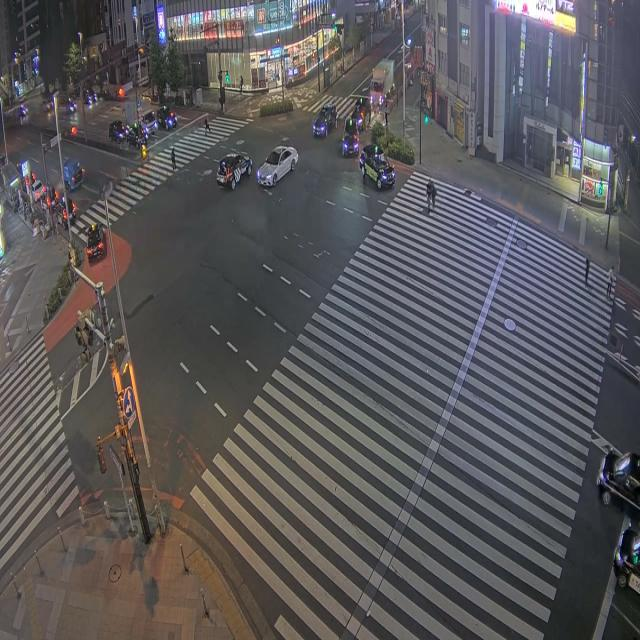car: (597, 451, 639, 508), (614, 525, 639, 593), (257, 146, 298, 186), (360, 144, 395, 189), (217, 153, 252, 189), (312, 104, 337, 136), (86, 224, 105, 262), (351, 97, 371, 129), (54, 199, 76, 228), (342, 119, 358, 157), (126, 122, 148, 148), (156, 105, 177, 129), (142, 110, 158, 135), (109, 120, 126, 142), (33, 180, 46, 201), (83, 89, 97, 105), (64, 98, 76, 113), (18, 105, 27, 120), (43, 98, 53, 111)
truck: (370, 59, 394, 105)
